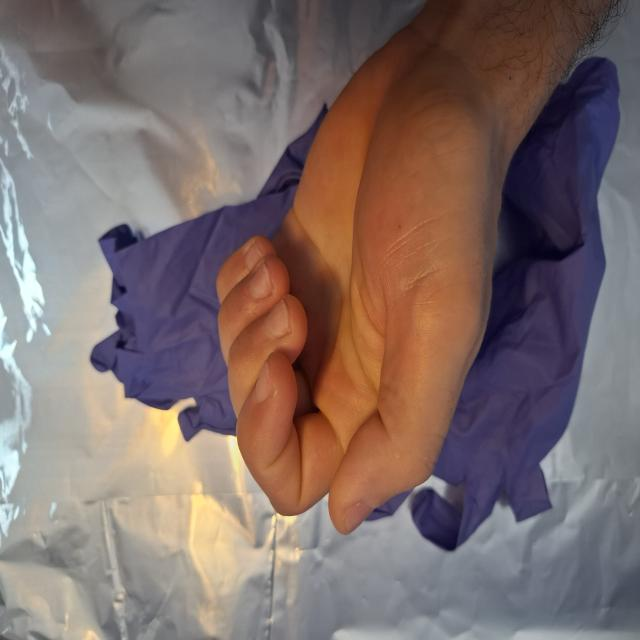glove_off: (213, 5, 530, 540)
